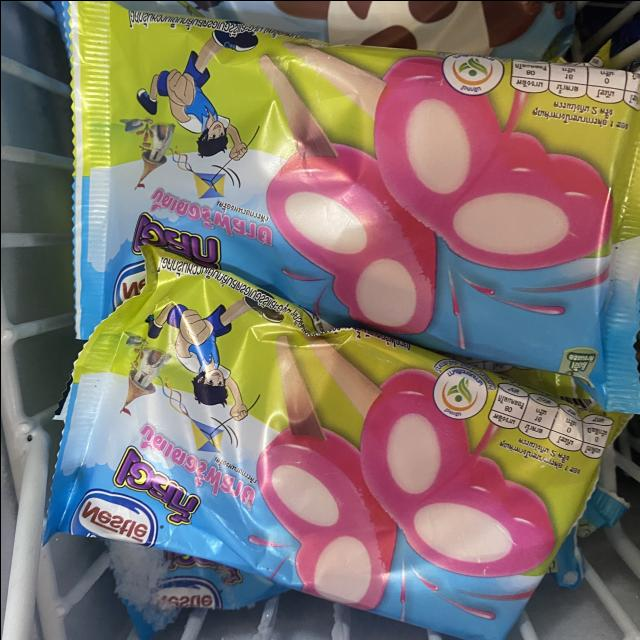plastik: (63, 0, 640, 411), (44, 246, 626, 640)
